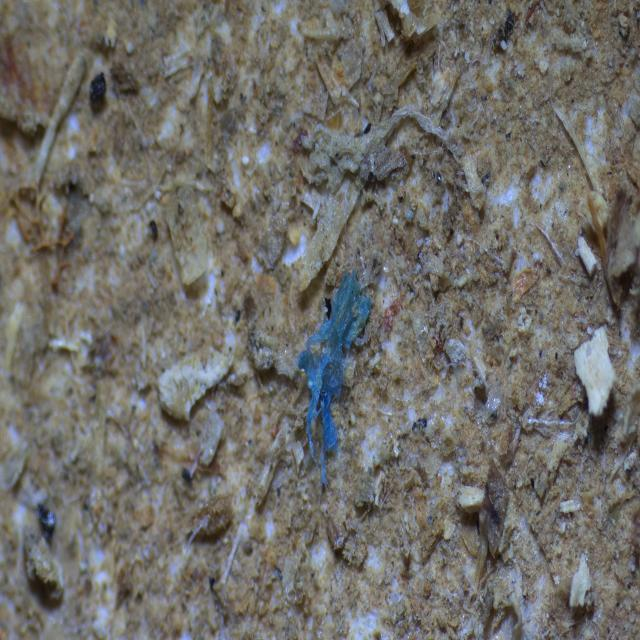microplastic: (272, 258, 381, 488)
